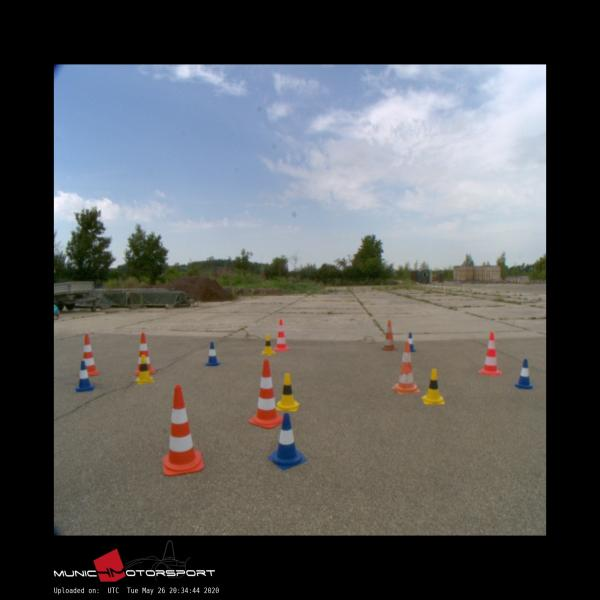blue_cone: (268, 414, 306, 470), (513, 359, 534, 389), (75, 361, 94, 391), (205, 341, 219, 366), (406, 333, 416, 352)
large_orange_cone: (163, 384, 203, 476), (248, 359, 284, 429), (392, 341, 420, 394), (478, 332, 502, 376), (78, 334, 98, 376), (134, 332, 154, 374), (273, 318, 289, 350), (381, 319, 397, 351)
yellow_cone: (276, 373, 299, 410), (421, 368, 444, 404), (135, 354, 154, 383), (260, 334, 274, 355)
